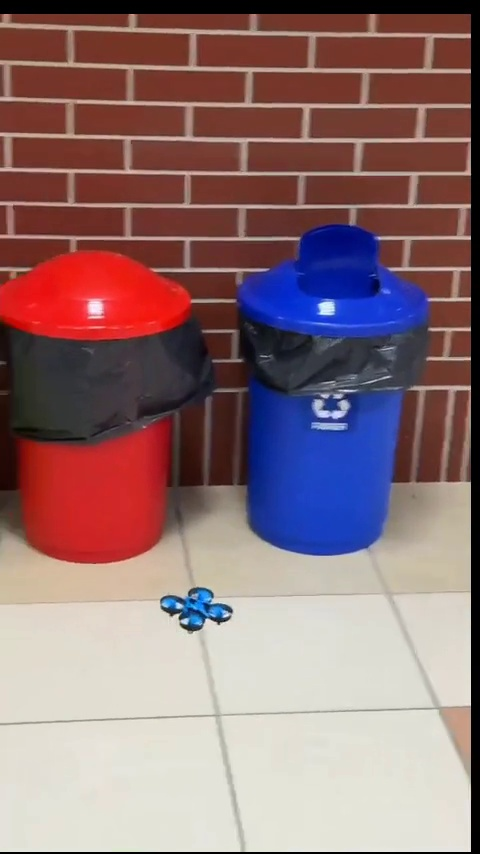drone: (162, 585, 233, 633)
